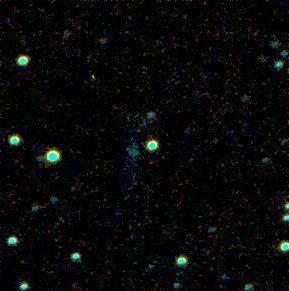star: (75, 53, 105, 83)
